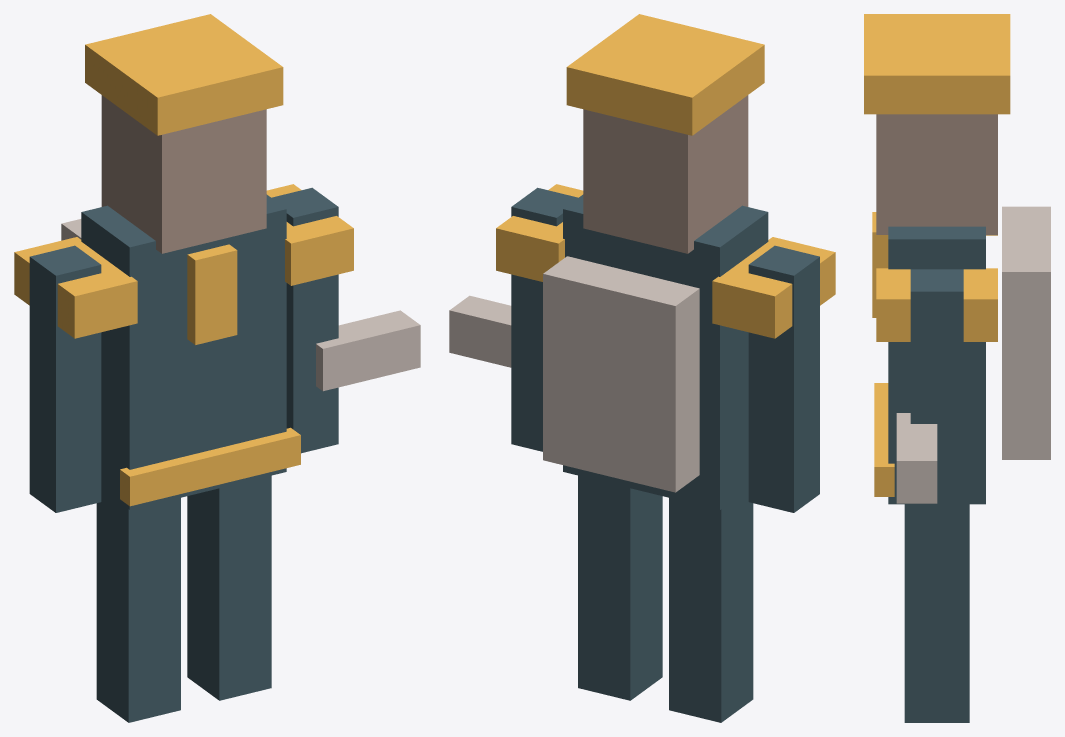
File: 10_thorne_cragwarden_keeper_from_reset.glb
The picture shows the model from 3 angles, left to right: view 1: azimuth 30°, elevation 25°; view 2: azimuth 150°, elevation 25°; view 3: azimuth 270°, elevation 25°; orthographic projection.
Visible parts, largest first — view 1: Thorne Cragwarden, Keeper from Reset; view 2: Thorne Cragwarden, Keeper from Reset; view 3: Thorne Cragwarden, Keeper from Reset.
Boxes of the visible parts, left/top/right/bottom form: Thorne Cragwarden, Keeper from Reset: left=14, top=14, right=420, bottom=722; Thorne Cragwarden, Keeper from Reset: left=449, top=14, right=835, bottom=722; Thorne Cragwarden, Keeper from Reset: left=864, top=14, right=1050, bottom=722.
Bounding box in the file's own units: 0.9908 × 1.69 × 0.4446.
